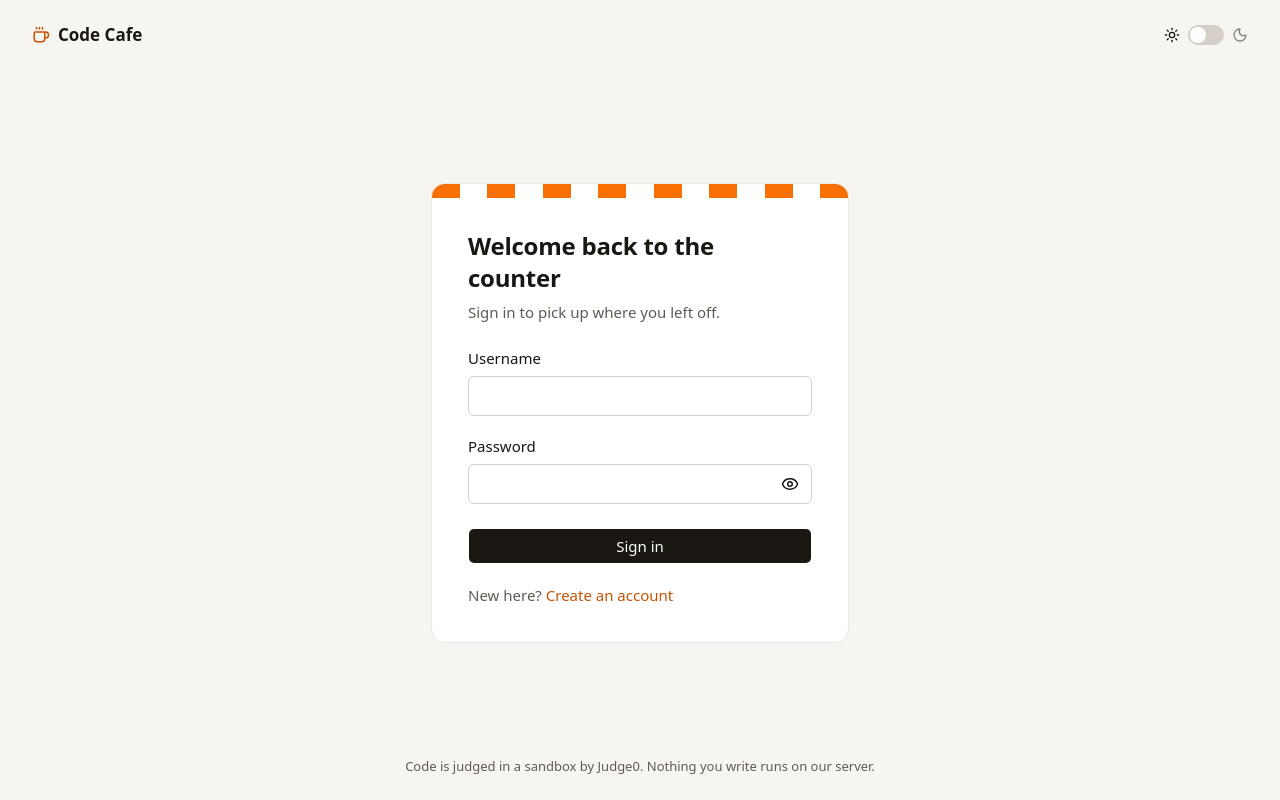
Test: sign in › shows inline errors for empty fields instead of alerts
Click the button "Sign in" at point(640, 546), box x1=468 y1=528 x2=812 y2=564
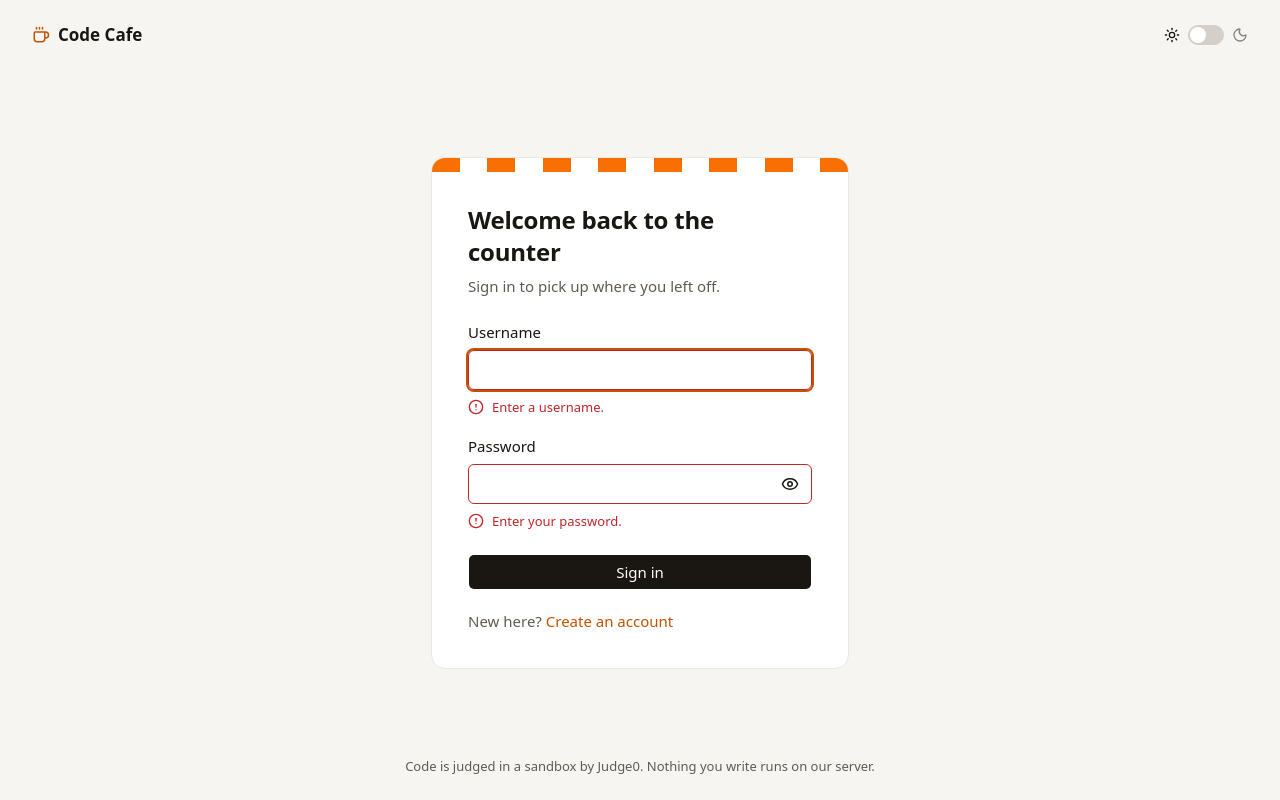
Expected: the text "Enter a username." is shown, x1=468 y1=398 x2=604 y2=416
Expected: the text "Enter your password." is shown, x1=468 y1=512 x2=622 y2=530
